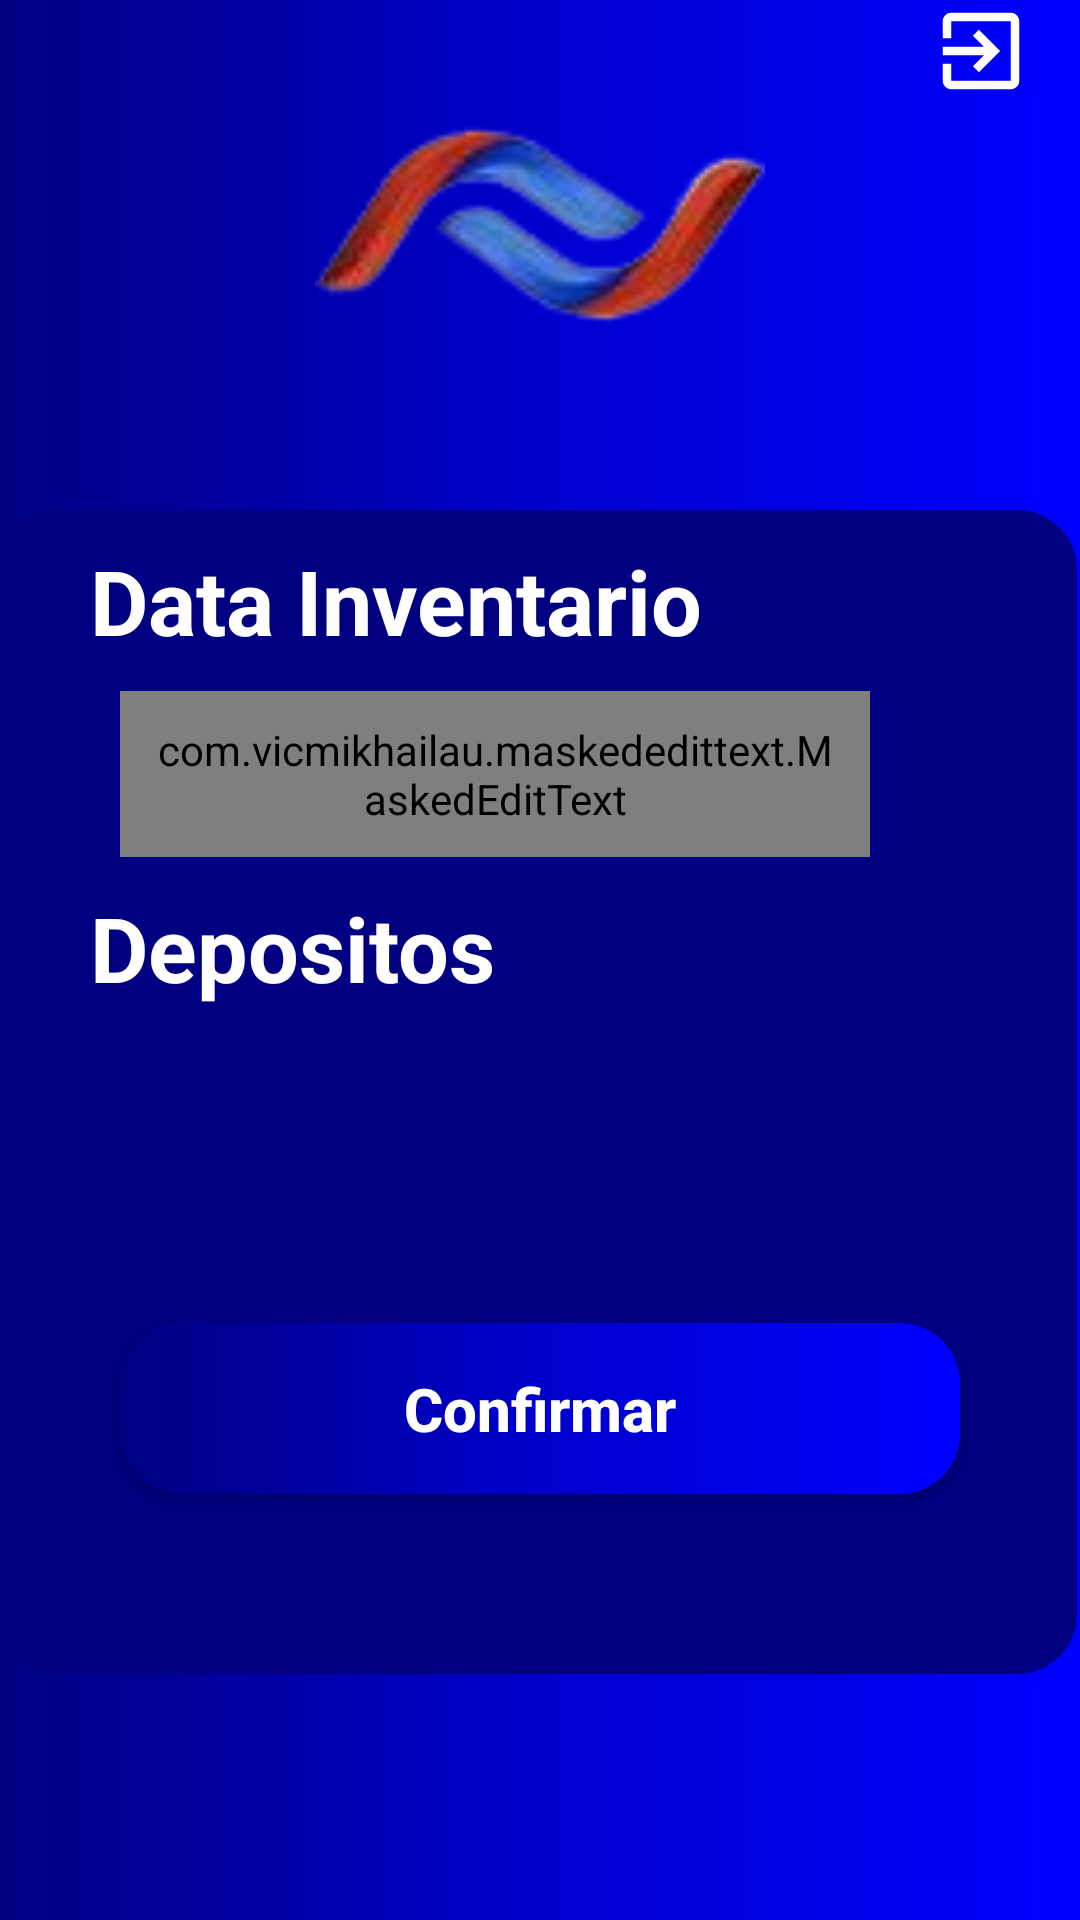

Where icons sit on this 1080×1920 app screen, as (x1, y1, x2, y2):
exit: (942, 12, 1020, 90)
